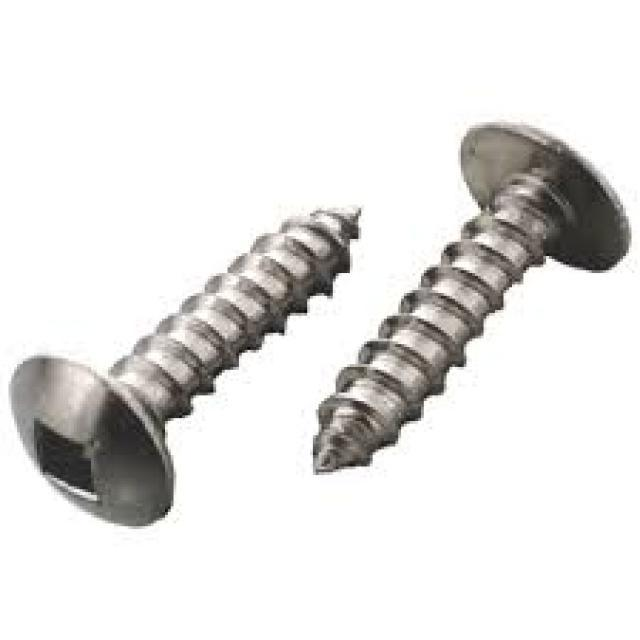Screw: (14, 208, 364, 529), (316, 125, 631, 475)
